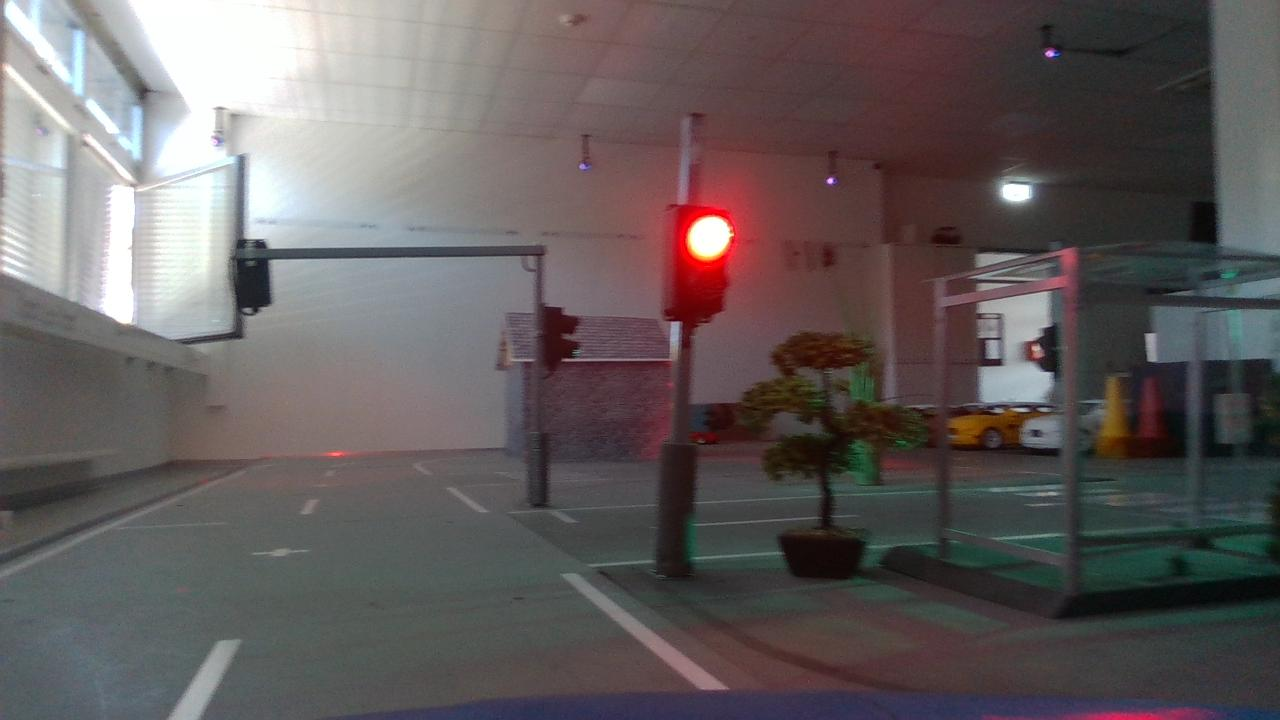traffic_light_red: (650, 190, 747, 334)
